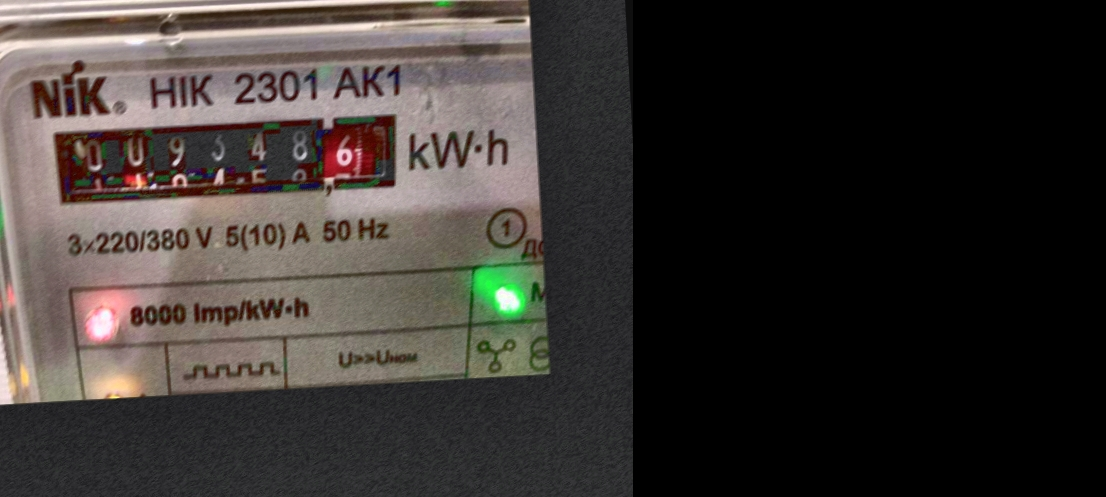0: (123, 133, 145, 170), (82, 138, 104, 174)
3: (204, 130, 228, 163)
4: (244, 127, 267, 166)
6: (332, 133, 356, 168)
8: (287, 127, 309, 162)
9: (166, 132, 185, 167)
screen: (29, 98, 419, 221)
